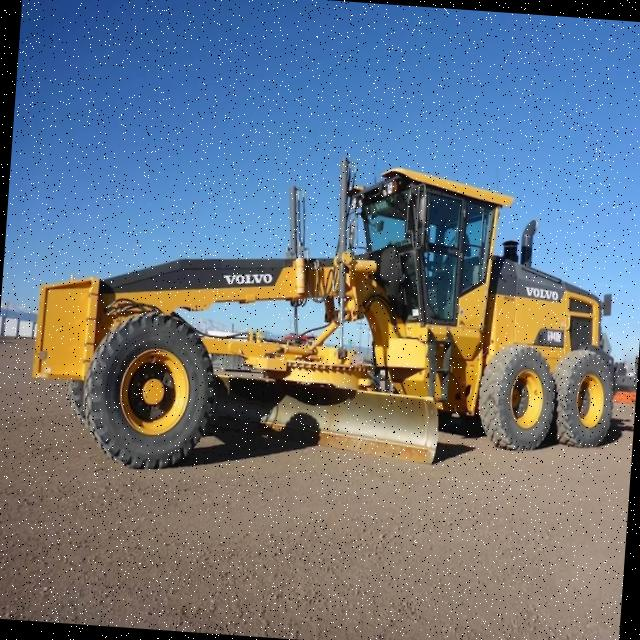Grader: (18, 128, 640, 507)
